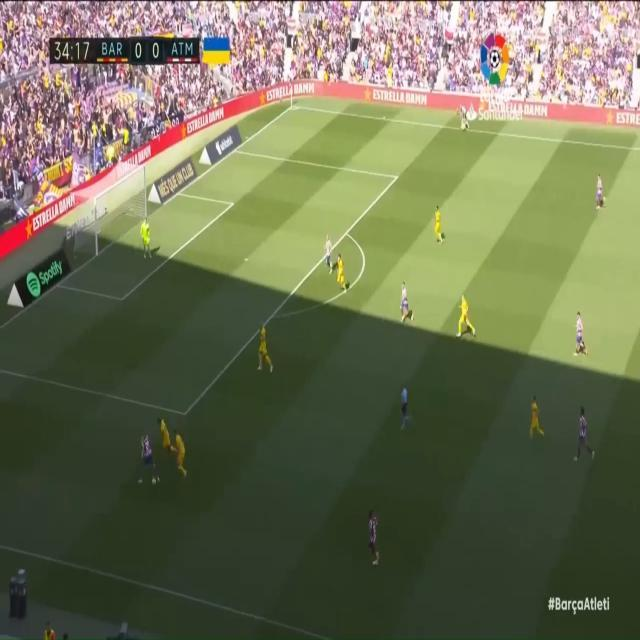ball: (150, 469, 160, 490)
goalkeeper: (137, 213, 156, 265)
player: (357, 500, 385, 574), (136, 424, 162, 499), (571, 392, 595, 470), (453, 276, 477, 348), (252, 310, 275, 373), (399, 274, 417, 339), (152, 408, 173, 463), (528, 388, 546, 449), (573, 305, 591, 361), (320, 228, 337, 278), (173, 425, 189, 478), (594, 164, 610, 216), (430, 205, 447, 253), (333, 254, 350, 299)
referee: (394, 368, 415, 436), (455, 101, 472, 134)
